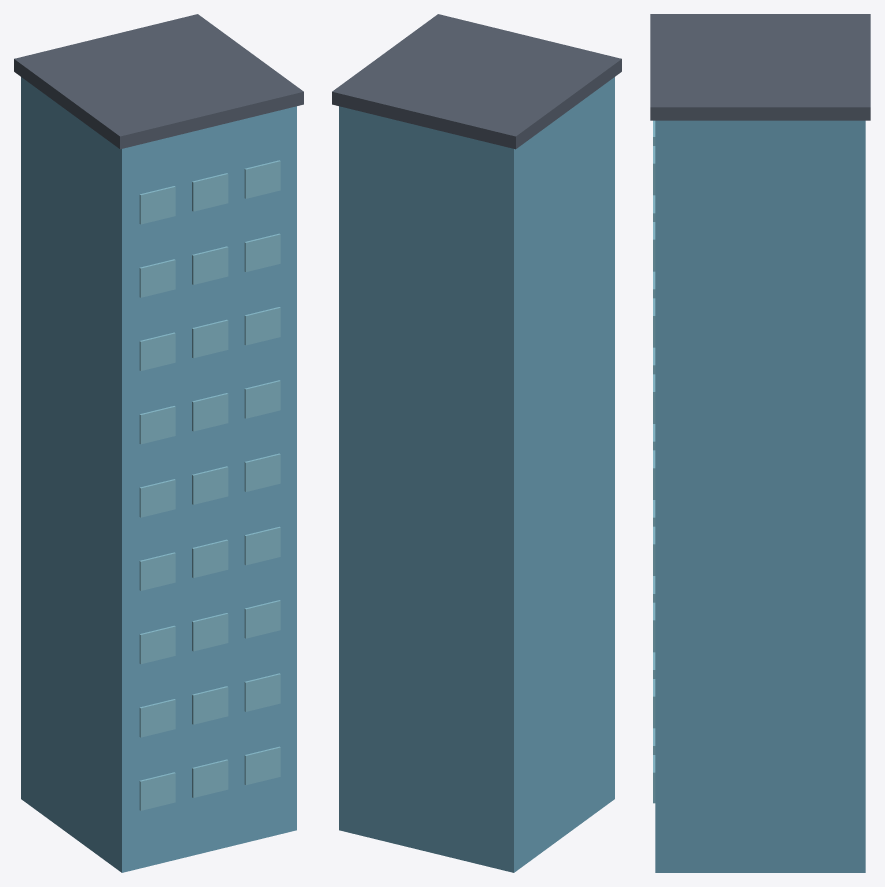
File: skyscraper_1.glb
3 renders of one model, left to right at view 1: azimuth 30°, elevation 25°; view 2: azimuth 150°, elevation 25°; view 3: azimuth 270°, elevation 25°, orthographic. The views are drawn at different scales.
Visible parts, largest first — view 1: tower, window (×27), roof_trim; view 2: tower, roof_trim; view 3: tower, roof_trim.
Part boxes in pixels (left/top/right/bottom): tower: left=21, top=77, right=296, bottom=872; window (×27): left=139, top=160, right=280, bottom=810; roof_trim: left=14, top=14, right=303, bottom=149; tower: left=339, top=77, right=614, bottom=872; roof_trim: left=332, top=14, right=621, bottom=149; tower: left=655, top=120, right=865, bottom=872; roof_trim: left=650, top=14, right=870, bottom=120.
Size of the model in its own units: 5.25 by 20.17 by 5.25.
